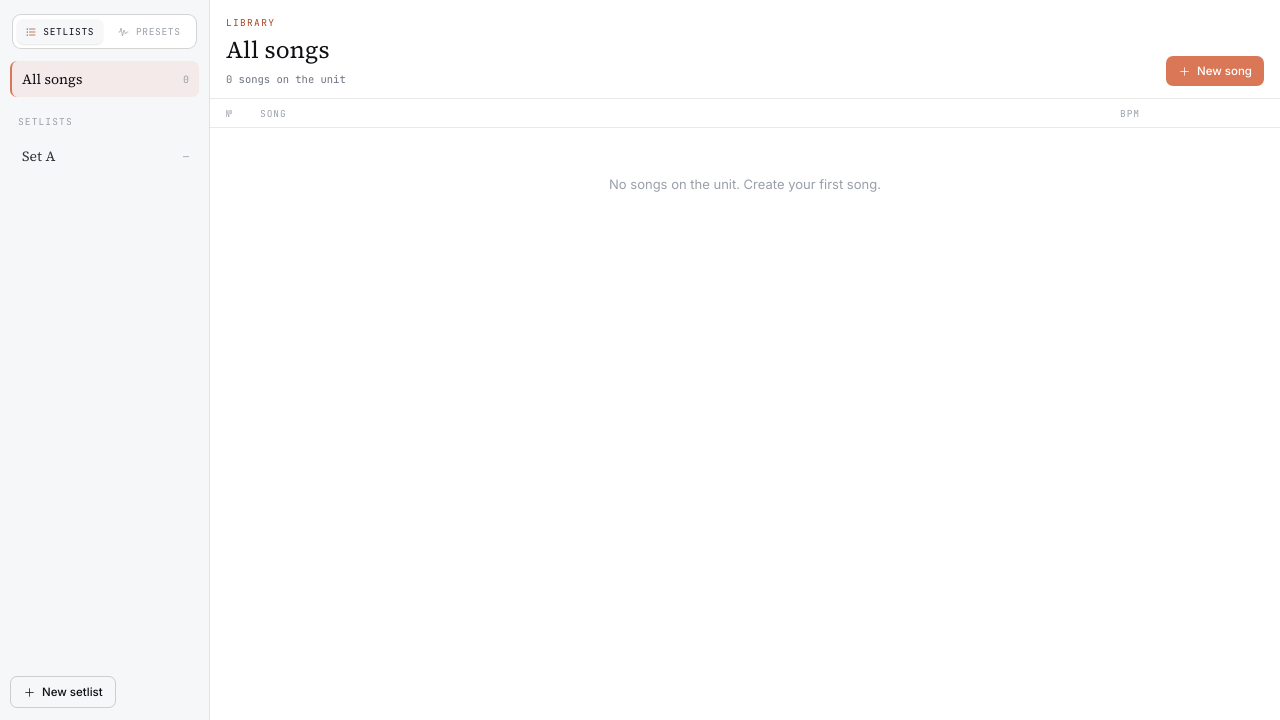
SongsView (device-backed) › deleting the viewed setlist confirms then falls back to All songs
The width and height of the screenshot is (1280, 720).
Check: the button "New song" is shown, box [1166,56,1264,86]
Click the text "Set A". click: (39, 156)
box: [22,146,55,166]
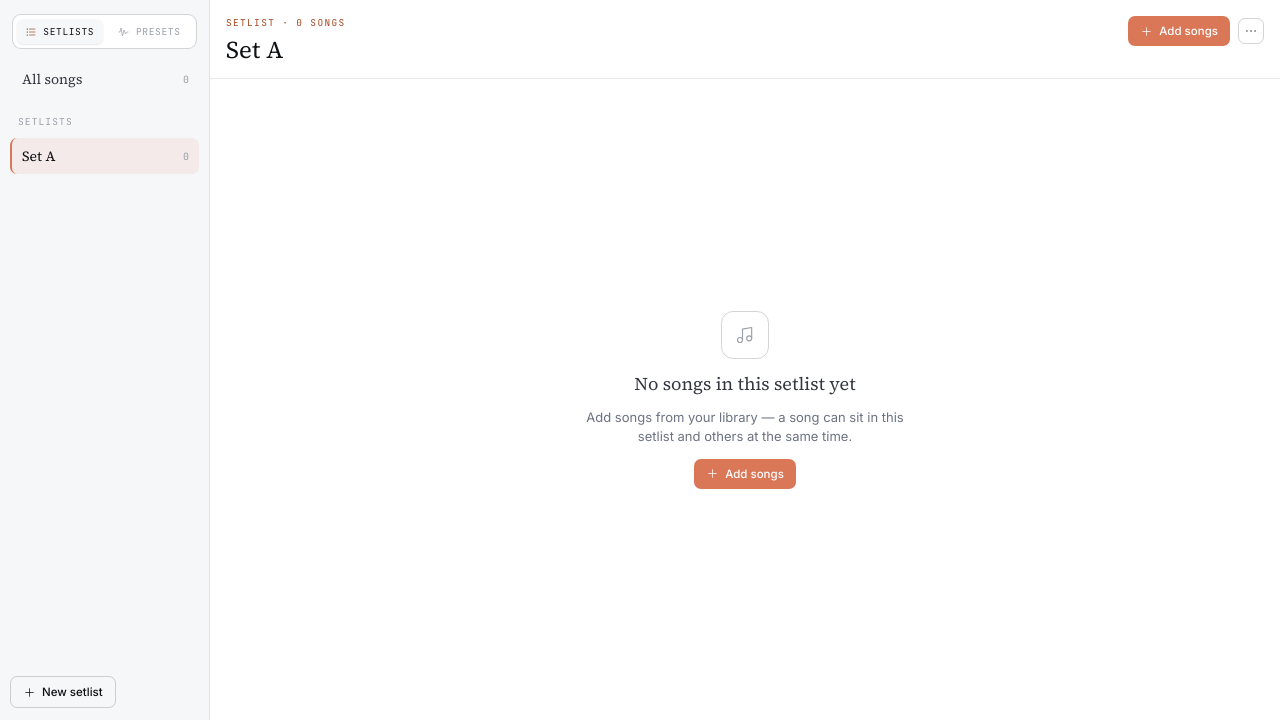
Check: the text "No songs in this setlist yet" is shown, box [634,370,856,396]
Click the element titled "Setlist options". click: (1251, 31)
box: [1238,18,1264,44]
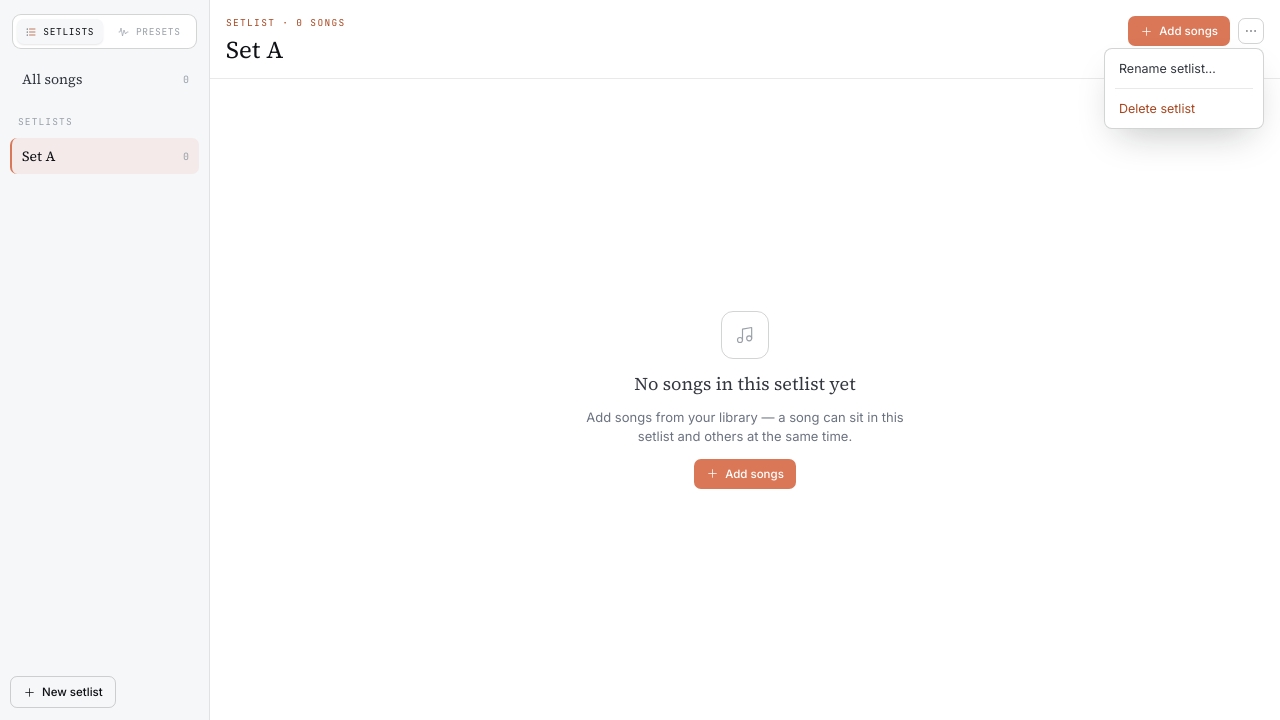
Click the menu item "Delete setlist". click: (1157, 108)
box: [1119,101,1195,116]
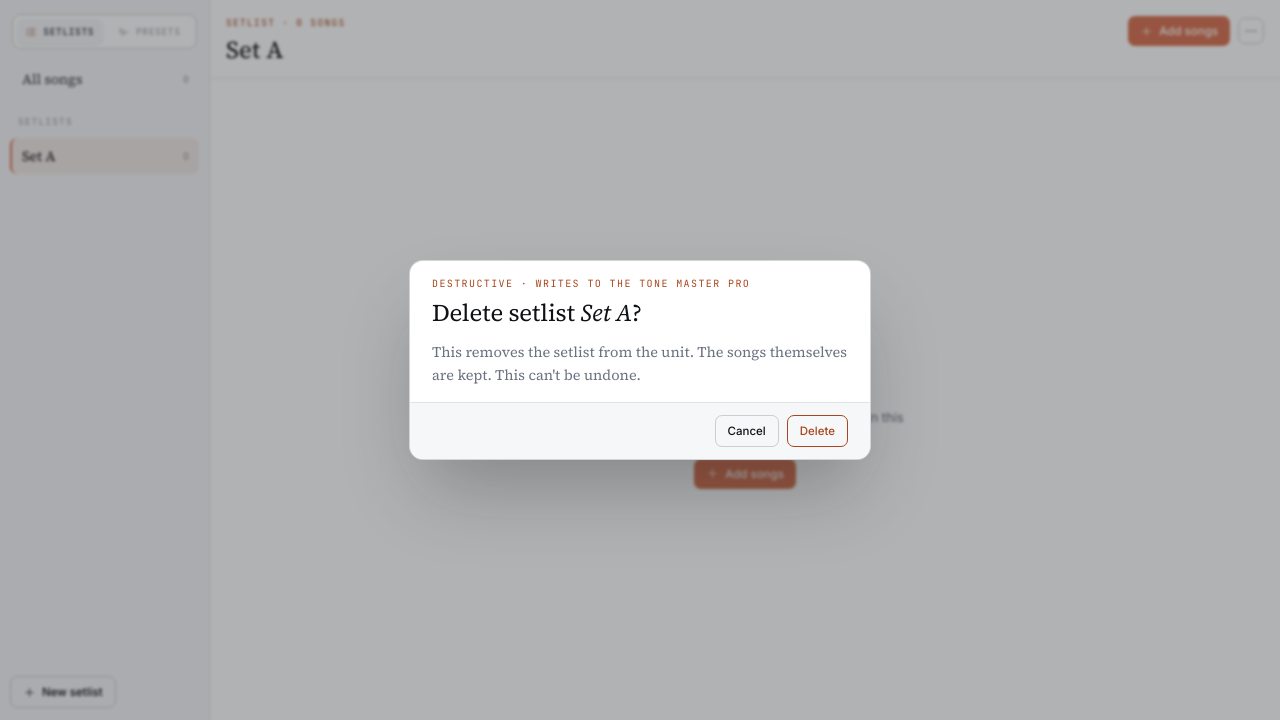
Click the button "Delete". click: (817, 431)
box: [787,415,848,447]
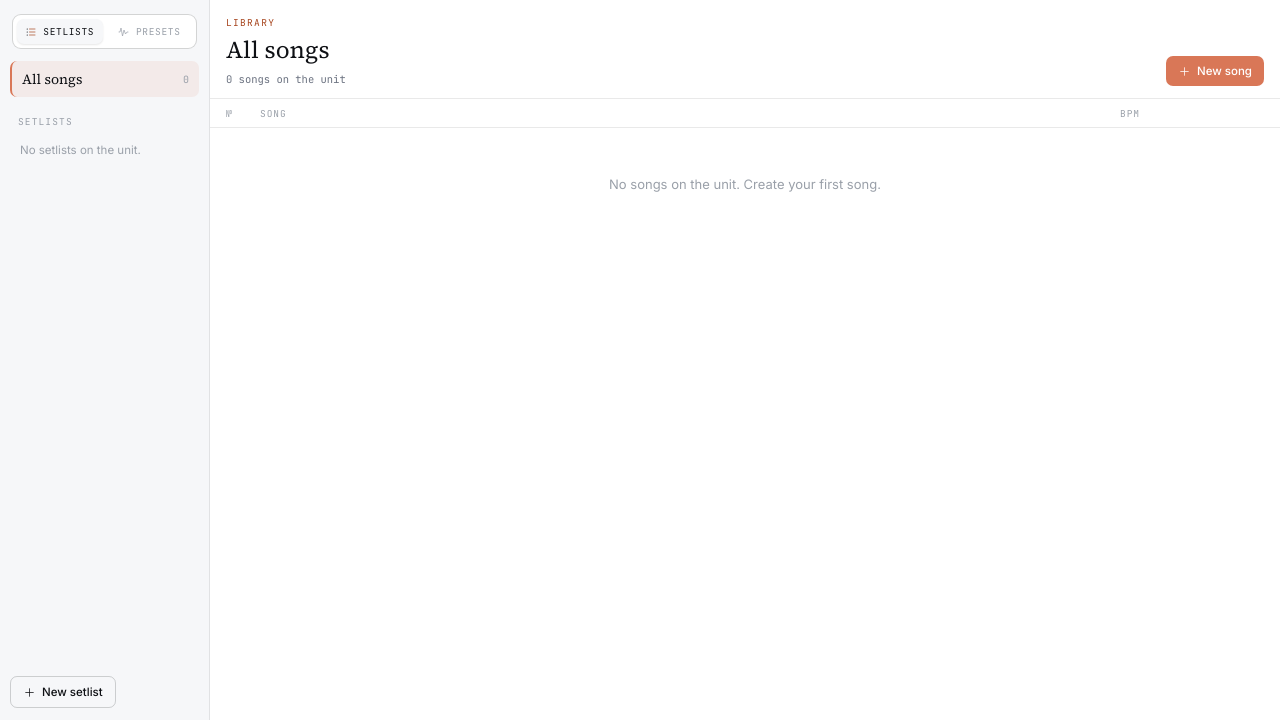
Check: the tab "Set A" is gone
Check: the button "New song" is shown, box [1166,56,1264,86]
